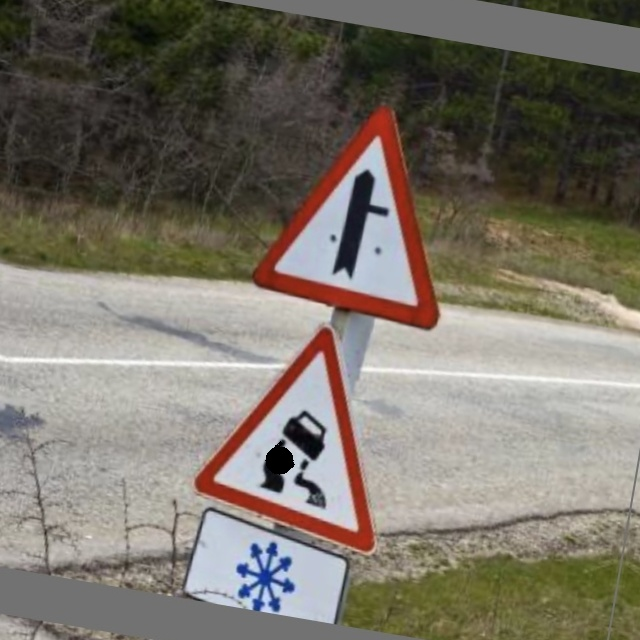Slippery_Road: (193, 307, 423, 541)
